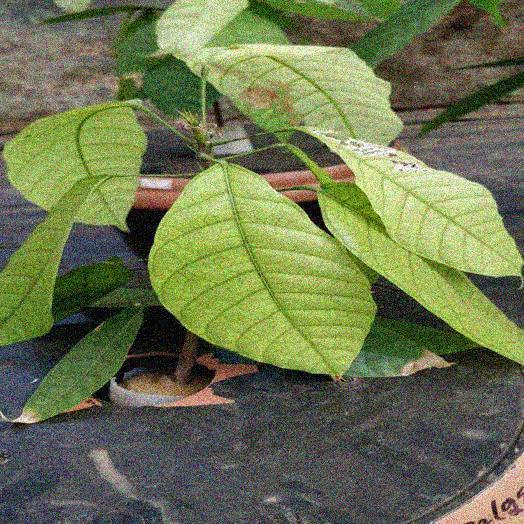Healthy Leaf: (3, 309, 142, 423), (157, 0, 247, 57), (52, 257, 130, 321)
Iron: (149, 164, 375, 376), (318, 183, 523, 364), (298, 127, 523, 276), (189, 44, 402, 144), (5, 103, 146, 227), (0, 181, 99, 344)
